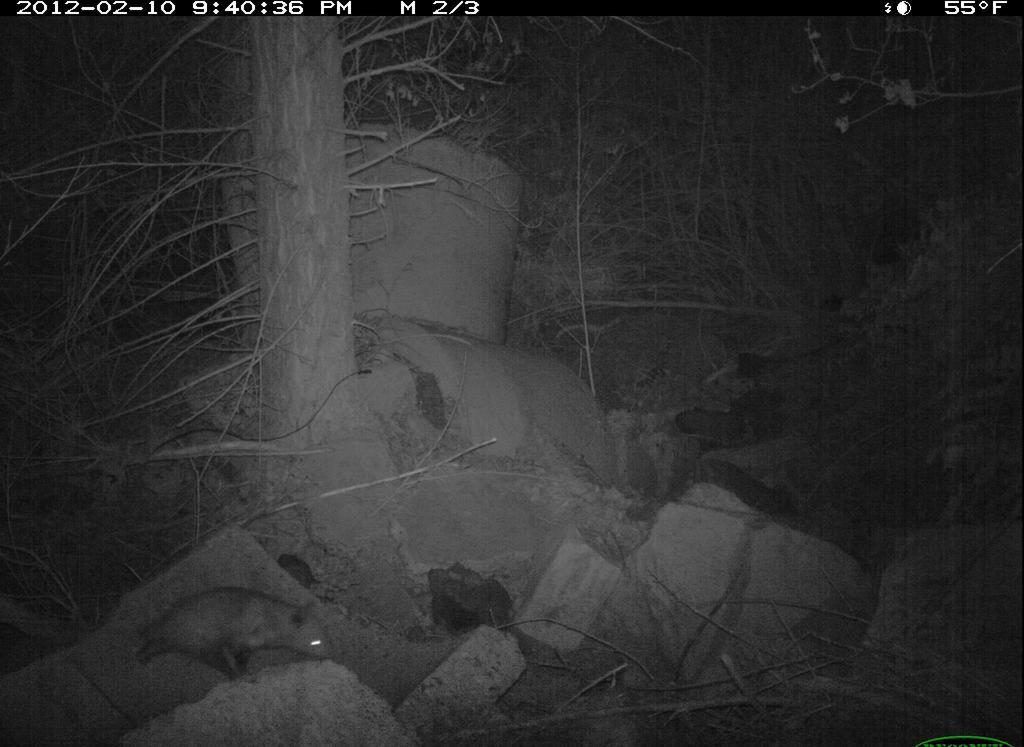opossum: (126, 585, 341, 687)
